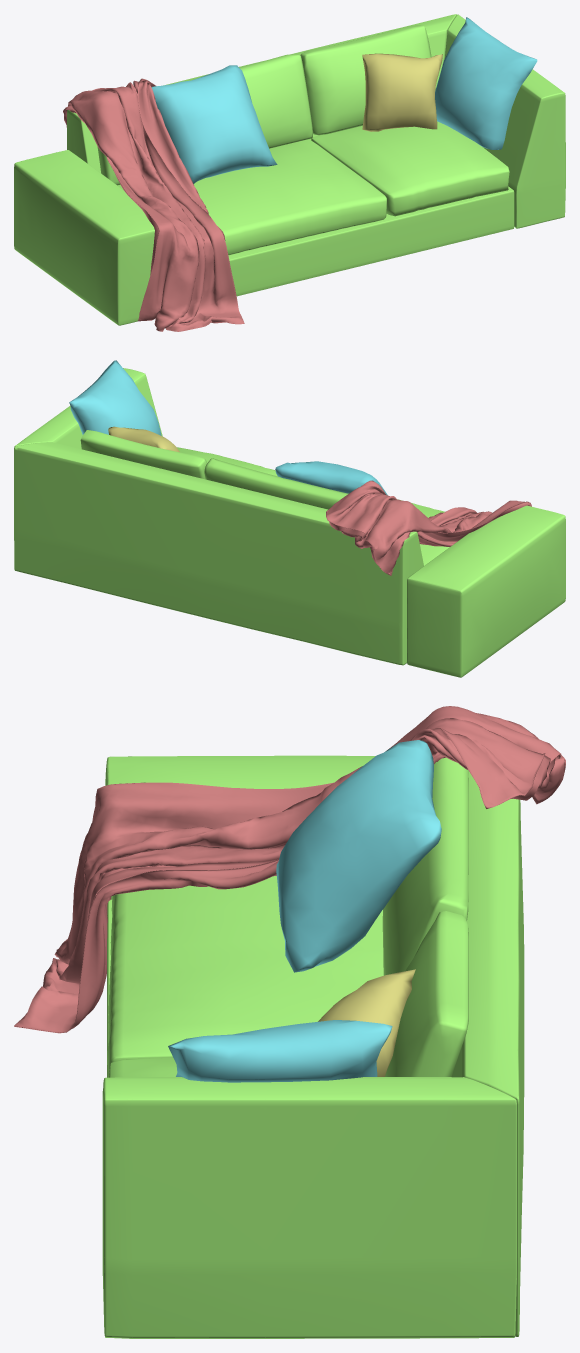
Rendered from SF_LignerosetExclusif.FBX.
3 views of the same model, one above another, from view 1: azimuth 30°, elevation 25°; view 2: azimuth 150°, elevation 25°; view 3: azimuth 270°, elevation 25° (orthographic). The views are drawn at different scales.
Visible parts, largest first — view 1: Sofa; view 2: Sofa; view 3: Sofa.
Part boxes in pixels (bbox=[...]): Sofa: bbox=[14, 14, 565, 331]; Sofa: bbox=[14, 360, 565, 677]; Sofa: bbox=[14, 706, 565, 1338].
Size of the model in its own units: 249 by 84.92 by 137.
